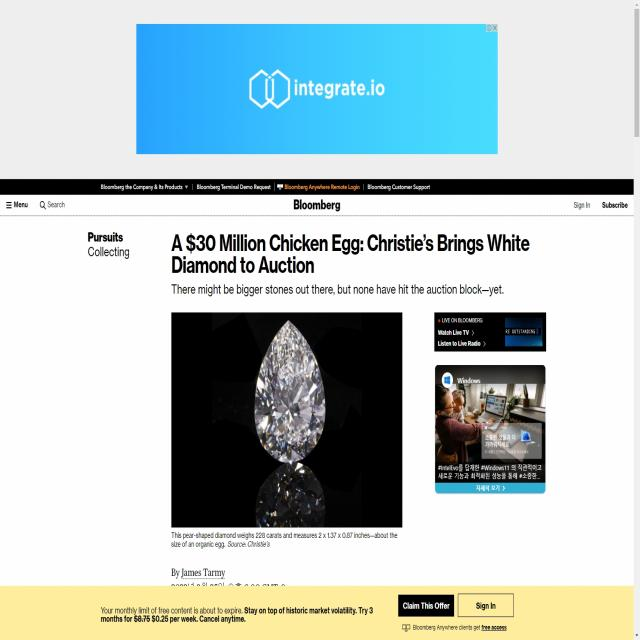menu-bar: (3, 195, 69, 213), (569, 197, 630, 213)
